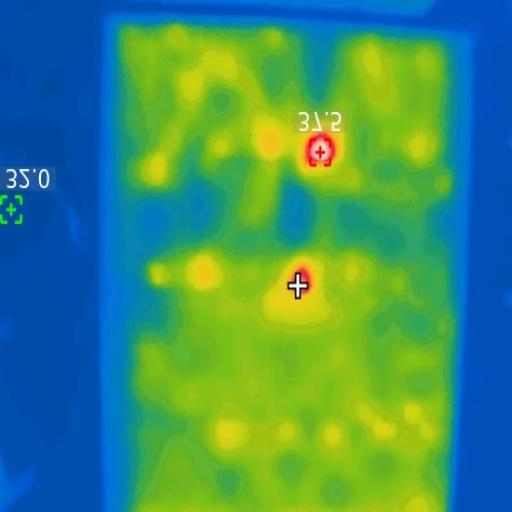hotspot: (307, 133, 338, 168), (295, 267, 314, 299)
